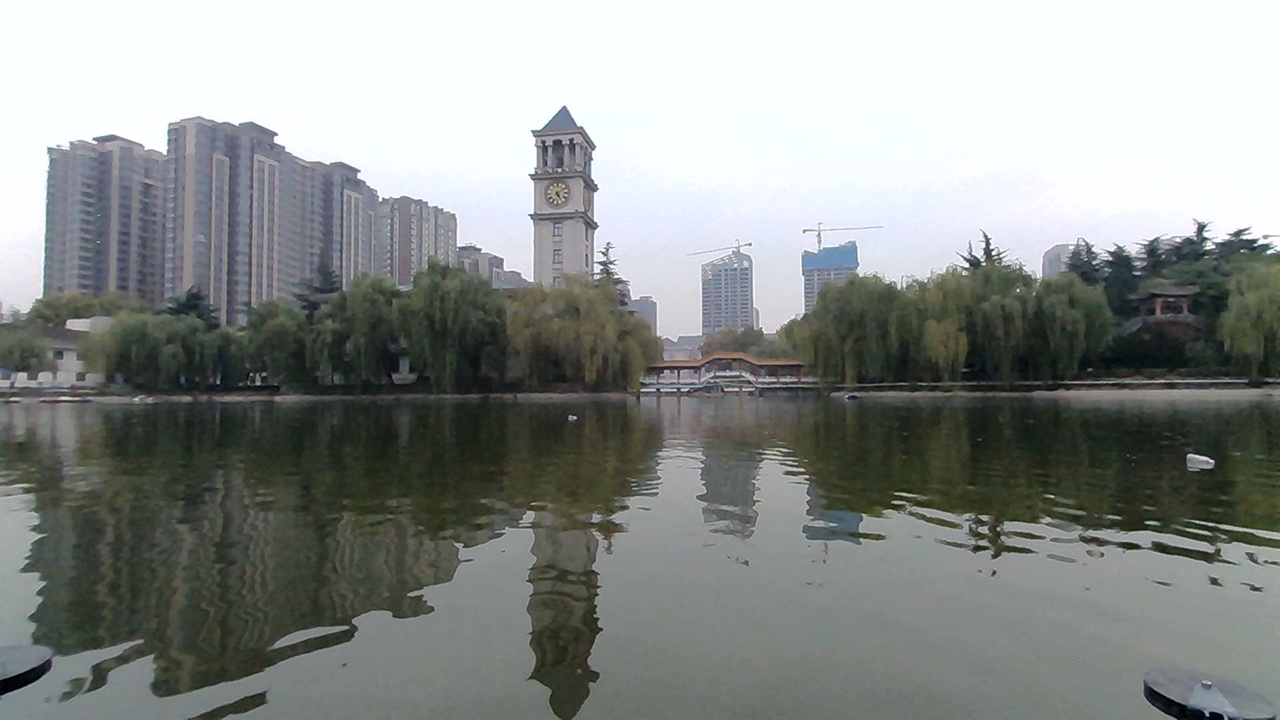bottle: (1187, 453, 1219, 474), (565, 405, 596, 426)
